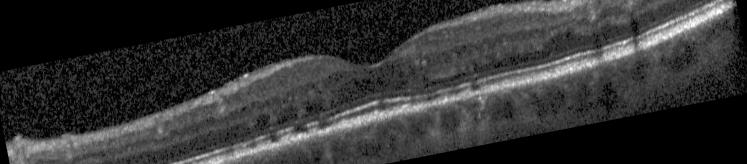intraretinal_cyst: (275, 104, 297, 124), (254, 114, 270, 130), (304, 103, 325, 114), (628, 14, 638, 32), (456, 45, 466, 57), (565, 31, 572, 38), (240, 107, 245, 111)
